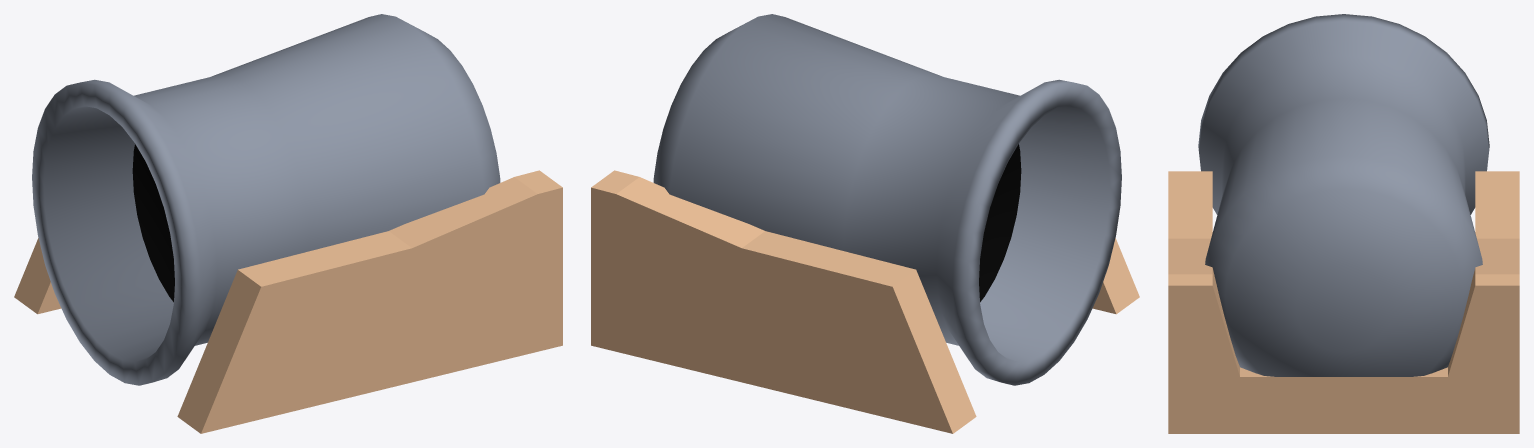
File: canon 3.fbx
3 renders of one model, left to right at view 1: azimuth 30°, elevation 25°; view 2: azimuth 150°, elevation 25°; view 3: azimuth 270°, elevation 25°, orthographic. The views are drawn at different scales.
Visible parts, largest first — view 1: Cube.001; view 2: Cube.001; view 3: Cube.001.
Part boxes in pixels (x1,y1,x2,y2): Cube.001: (14,14,562,433); Cube.001: (591,14,1139,433); Cube.001: (1168,14,1519,433).
Size of the model in its own units: 100 by 74.23 by 89.41.
